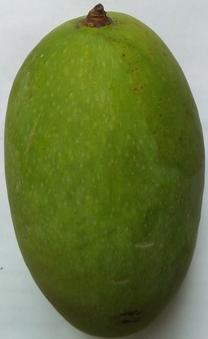Unripe: (0, 1, 208, 339)
